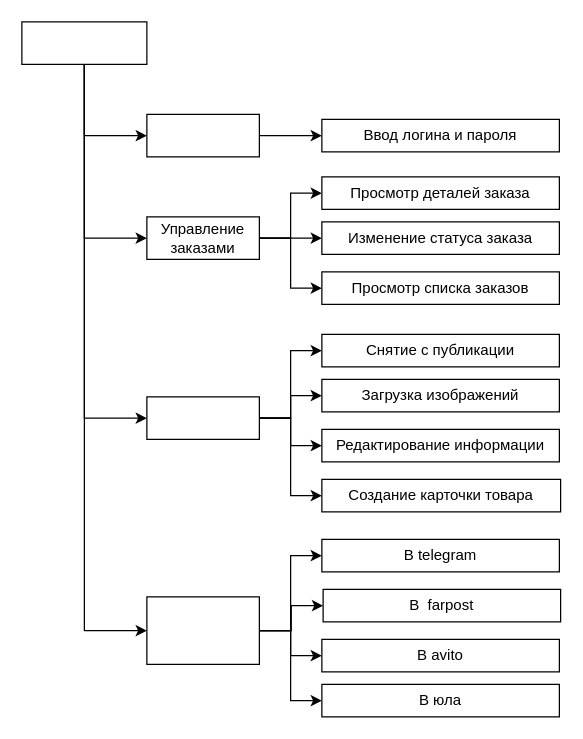
Image size: 583x739. Some labels were removed from this diagram. Each missing label, with the centre of its shape:
"Авторизация" goes at (x=202, y=135).
"Публикация на внешние ресурсы" goes at (x=202, y=630).
"Управление товарами" goes at (x=202, y=417).
"Функции администратора" goes at (x=84, y=42).
